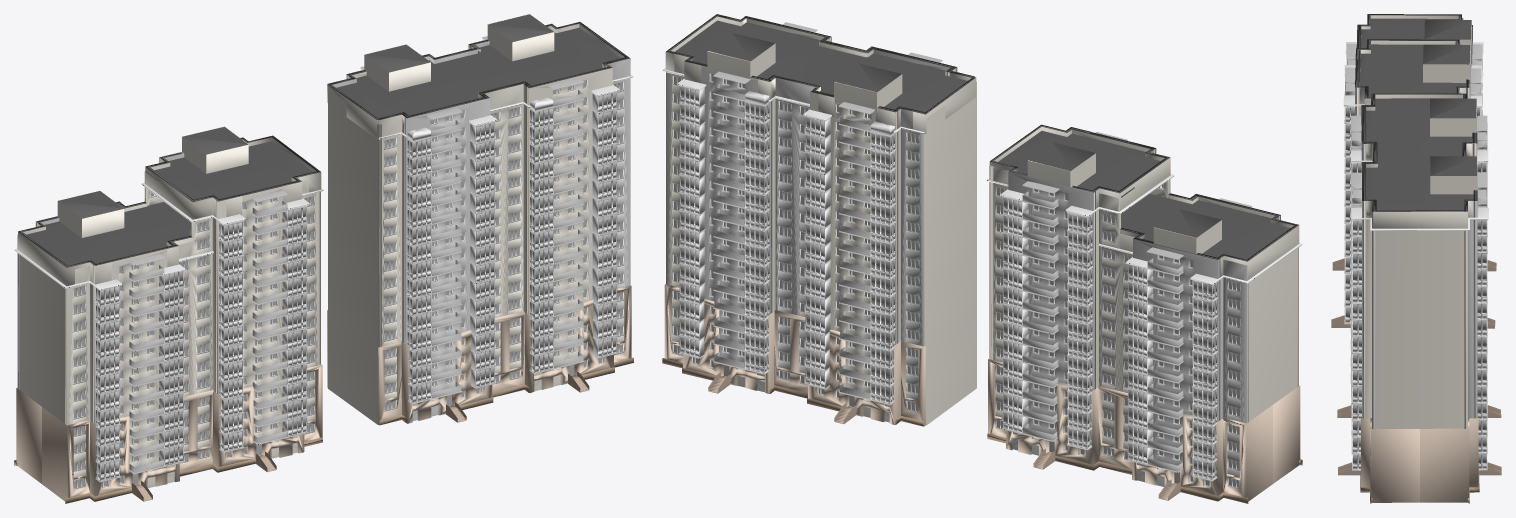
The model's file is flower.glb.
The picture shows the model from 3 angles, left to right: view 1: azimuth 30°, elevation 25°; view 2: azimuth 150°, elevation 25°; view 3: azimuth 270°, elevation 25°; orthographic projection. The views are drawn at different scales.
Visible parts, largest first — view 1: building; view 2: building; view 3: building.
Boxes of the visible parts, left/top/right/bottom form: building: left=14, top=14, right=633, bottom=503; building: left=662, top=14, right=1302, bottom=503; building: left=1331, top=14, right=1501, bottom=503.
Size of the model in its own units: 517 by 277 by 140.
